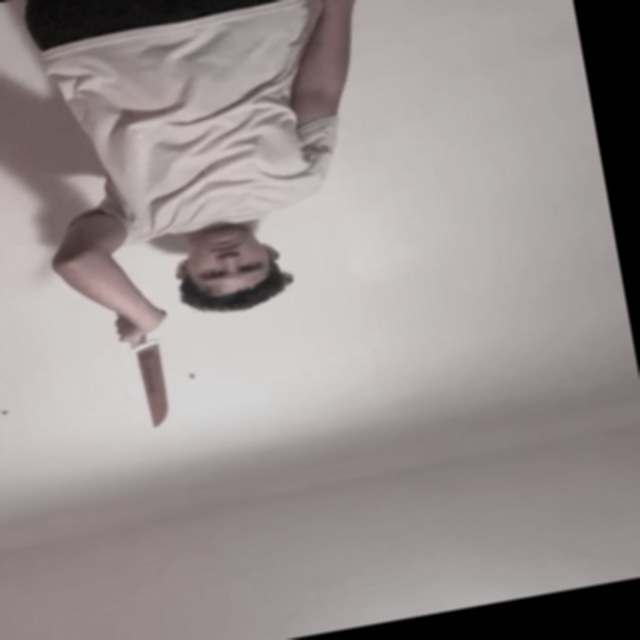Sharp-Object: (130, 336, 181, 429)
